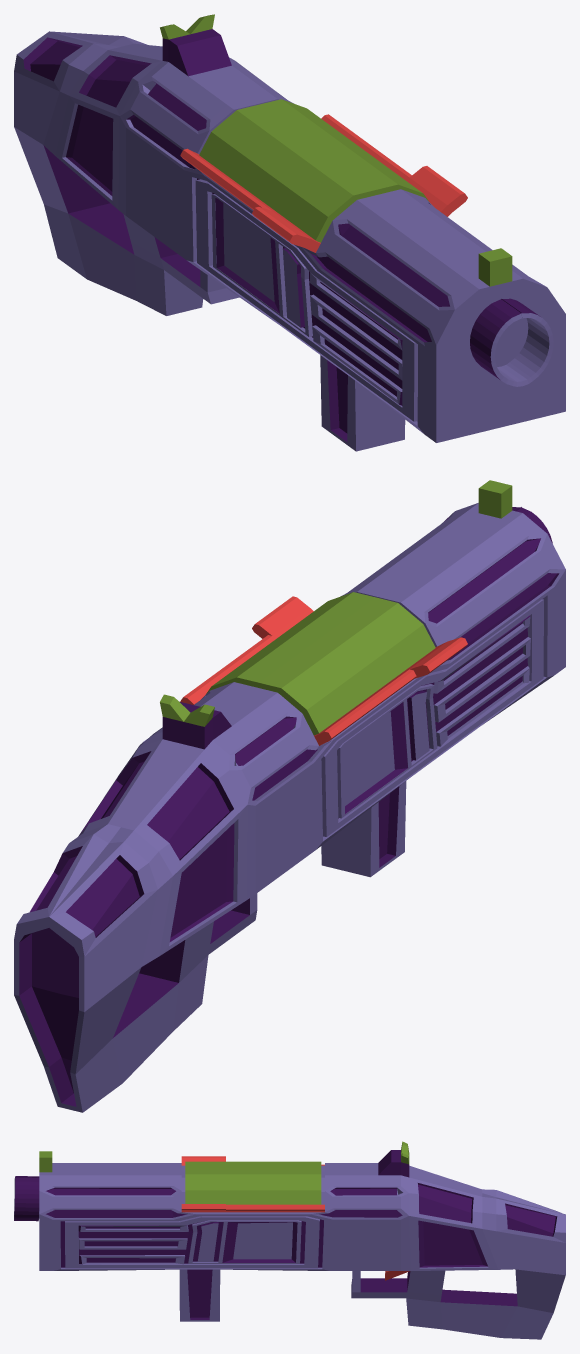
File: machine 2.fbx
3 views of the same model, one above another, from view 1: azimuth 30°, elevation 25°; view 2: azimuth 150°, elevation 25°; view 3: azimuth 270°, elevation 25° (orthographic). The views are drawn at different scales.
Parts seen in each view (by area): view 1: Cube; view 2: Cube; view 3: Cube.
Boxes of the visible parts, bbox=[...] form: Cube: bbox=[14, 14, 565, 451]; Cube: bbox=[14, 480, 565, 1112]; Cube: bbox=[14, 1141, 565, 1339].
Bounding box in the file's own units: 239 × 89.74 × 52.03.
